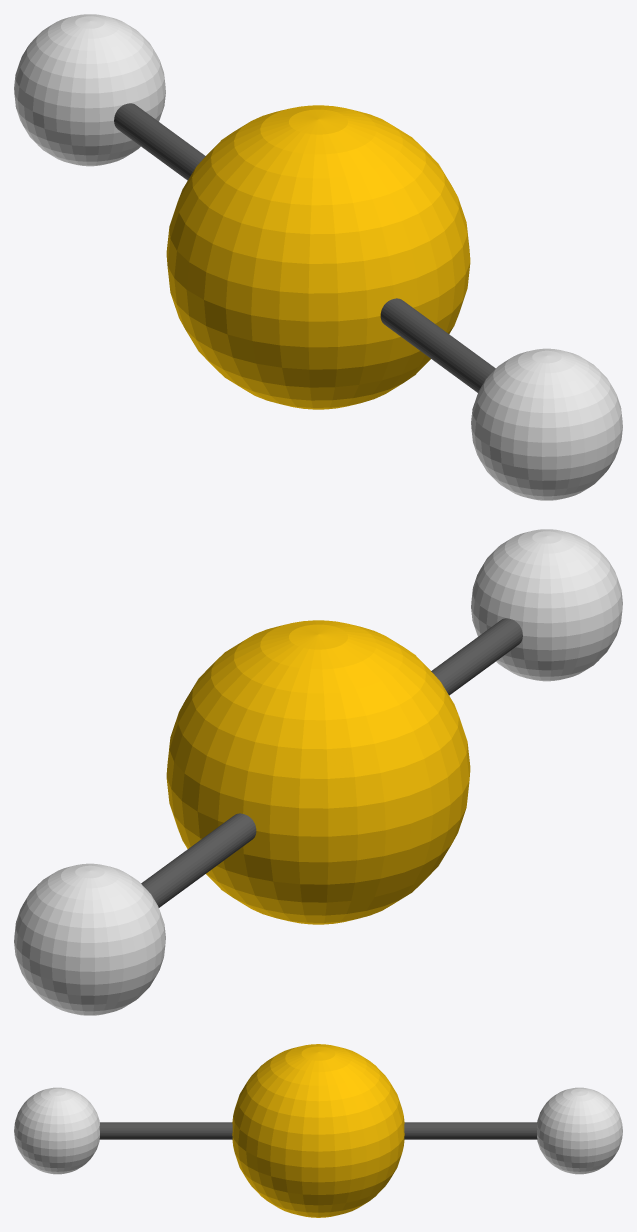
Rendered from SulfurStr.fbx.
3 renders of one model, top to bottom at view 1: azimuth 30°, elevation 25°; view 2: azimuth 150°, elevation 25°; view 3: azimuth 270°, elevation 25°, orthographic. The views are drawn at different scales.
Visible parts, largest first — view 1: Sphere, H2, H1, C3, C2; view 2: Sphere, H1, H2, C2, C3; view 3: Sphere, H1, H2, C2, C3.
Part boxes in pixels (<box>): Sphere: <box>166,105,470,409</box>; H2: <box>471,348,622,500</box>; H1: <box>14,14,165,166</box>; C3: <box>380,298,495,392</box>; C2: <box>114,103,205,180</box>; Sphere: <box>166,620,470,924</box>; H1: <box>14,863,165,1015</box>; H2: <box>471,529,622,681</box>; C2: <box>141,813,256,907</box>; C3: <box>431,618,522,695</box>; Sphere: <box>232,1044,404,1217</box>; H1: <box>537,1087,622,1174</box>; H2: <box>14,1087,99,1174</box>; C2: <box>404,1122,537,1139</box>; C3: <box>99,1122,232,1139</box>.
Bounding box in the file's own units: 20 × 20 × 70.
